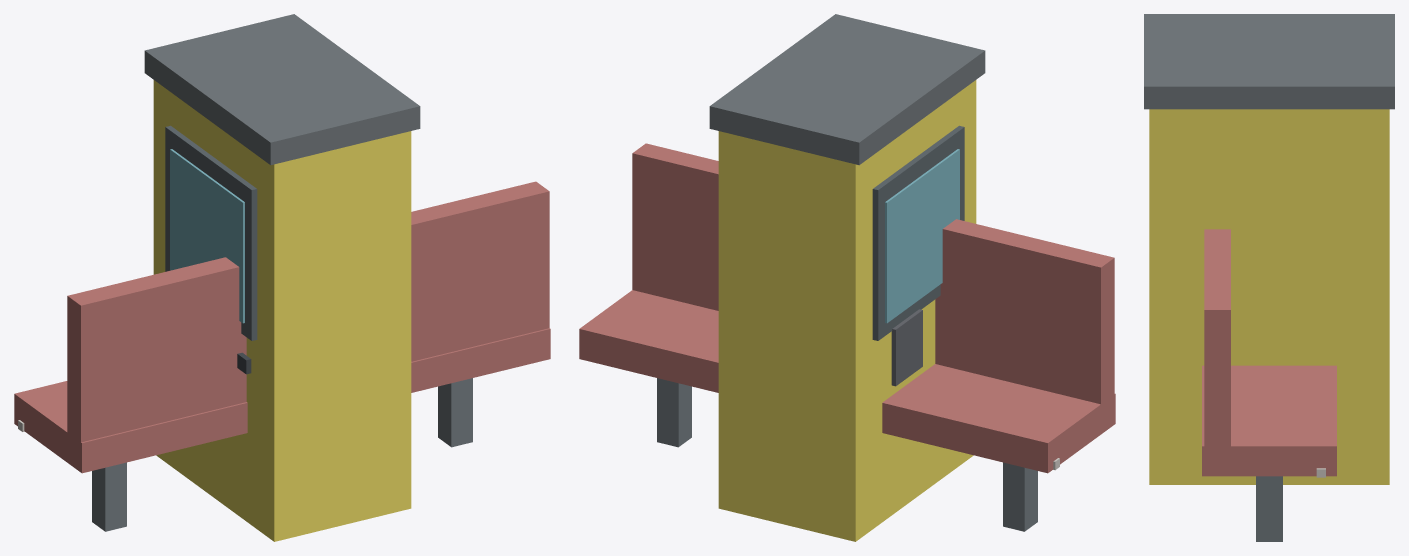
Rendered from metro-props.glb.
The picture shows the model from 3 angles, left to right: view 1: azimuth 30°, elevation 25°; view 2: azimuth 150°, elevation 25°; view 3: azimuth 270°, elevation 25°; orthographic projection.
Parts seen in each view (by area): view 1: YellowPanel, Back, TopCap, Seat, Screen, ScreenBezel, Leg (×2); view 2: YellowPanel, Back, Seat, TopCap, Screen, ScreenBezel, Leg (×2), Numpad; view 3: YellowPanel, TopCap, Seat, Back, Leg.
Boxes of the visible parts, bbox=[...] form: YellowPanel: bbox=[153, 80, 411, 541]; Back: bbox=[67, 181, 549, 446]; TopCap: bbox=[144, 14, 420, 165]; Seat: bbox=[14, 328, 550, 473]; Screen: bbox=[170, 149, 244, 323]; ScreenBezel: bbox=[165, 125, 257, 340]; Leg (×2): bbox=[92, 378, 472, 531]; YellowPanel: bbox=[718, 80, 976, 541]; Back: bbox=[632, 143, 1114, 406]; Seat: bbox=[579, 290, 1115, 473]; TopCap: bbox=[709, 14, 985, 165]; Screen: bbox=[885, 149, 959, 323]; ScreenBezel: bbox=[872, 125, 964, 340]; Leg (×2): bbox=[657, 378, 1037, 531]; Numpad: bbox=[891, 309, 922, 386]; YellowPanel: bbox=[1149, 109, 1389, 484]; TopCap: bbox=[1144, 14, 1394, 109]; Seat: bbox=[1202, 365, 1336, 476]; Back: bbox=[1204, 229, 1230, 450]; Leg: bbox=[1256, 476, 1282, 541].
Size of the model in its own units: 2.62 by 2.14 by 1.21.
